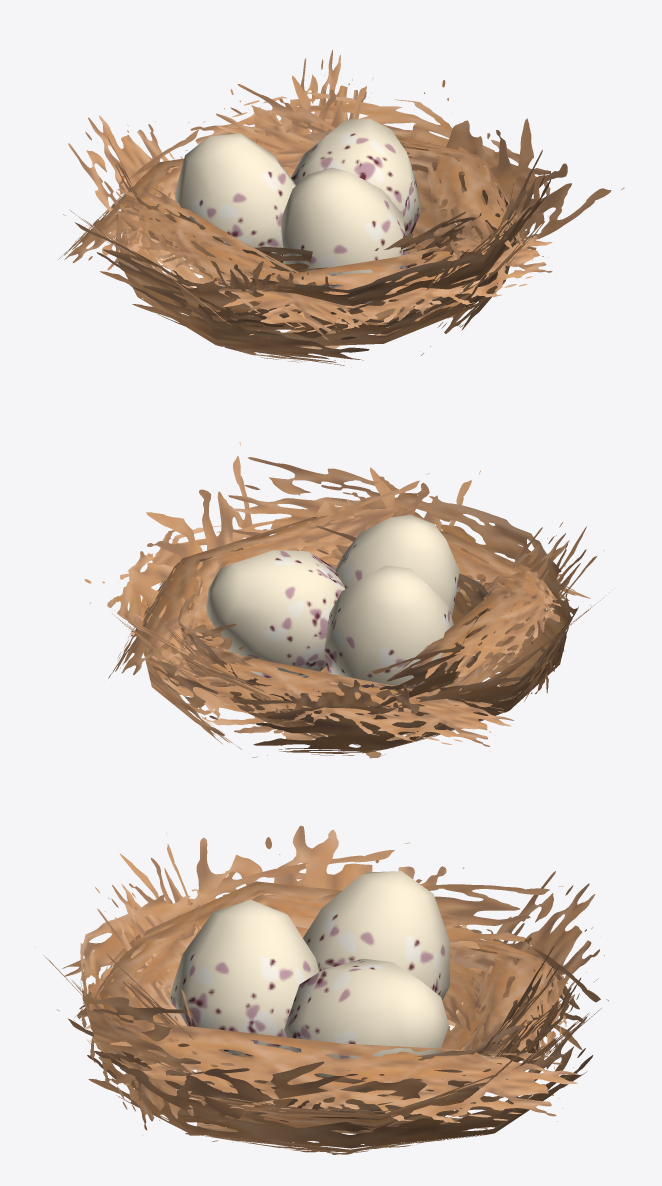
The model's file is SM_ENV_birdnest_ancient_02.fbx.
3 renders of one model, top to bottom at view 1: azimuth 30°, elevation 25°; view 2: azimuth 150°, elevation 25°; view 3: azimuth 270°, elevation 25°, orthographic. The views are drawn at different scales.
Visible parts, largest first — view 1: SM_ENV_birdnest_ancient_02_LOD0; view 2: SM_ENV_birdnest_ancient_02_LOD0; view 3: SM_ENV_birdnest_ancient_02_LOD0.
Boxes of the visible parts, box(x1,y1,x2,y2) form: SM_ENV_birdnest_ancient_02_LOD0: box(58, 50, 624, 367); SM_ENV_birdnest_ancient_02_LOD0: box(84, 442, 606, 758); SM_ENV_birdnest_ancient_02_LOD0: box(35, 826, 608, 1154).
Size of the model in its own units: 58.44 by 24.5 by 61.15.
